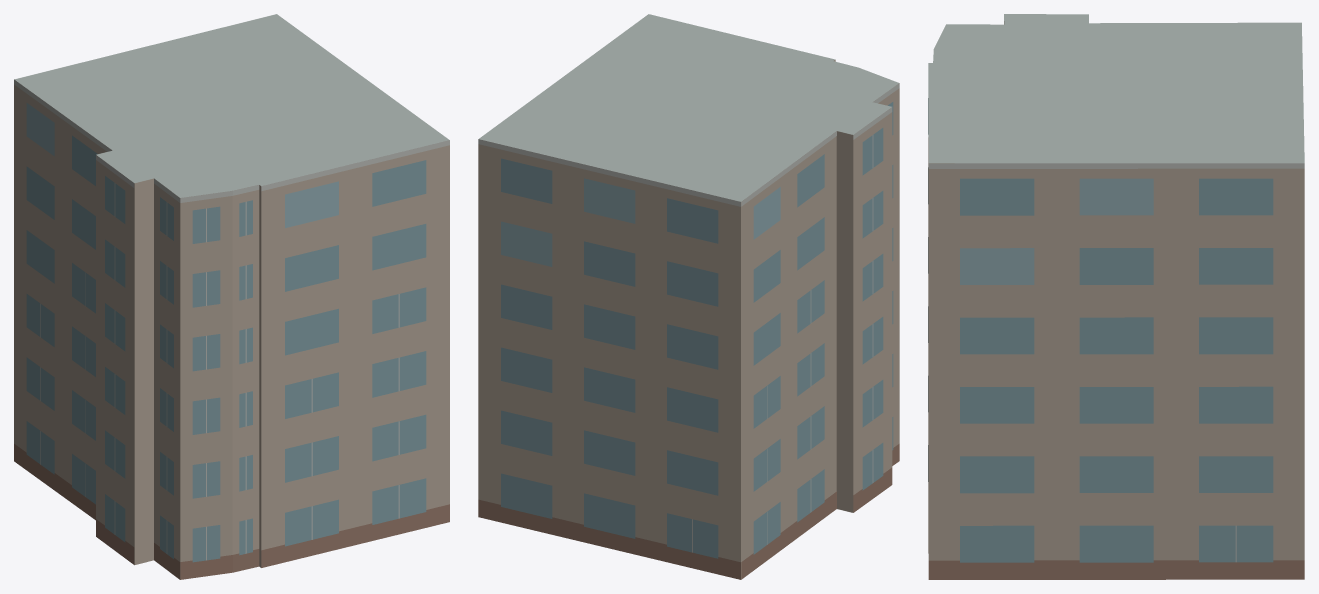
Rendered from survey-upis-32461389.glb.
3 renders of one model, left to right at view 1: azimuth 30°, elevation 25°; view 2: azimuth 150°, elevation 25°; view 3: azimuth 270°, elevation 25°, orthographic. The views are drawn at different scales.
Parts seen in each view (by area): view 1: survey-upis-32461389.tmp; view 2: survey-upis-32461389.tmp; view 3: survey-upis-32461389.tmp.
Boxes of the visible parts, bbox=[...] form: survey-upis-32461389.tmp: bbox=[14, 14, 449, 579]; survey-upis-32461389.tmp: bbox=[478, 14, 899, 579]; survey-upis-32461389.tmp: bbox=[928, 14, 1304, 579].
Bounding box in the file's own units: 14.09 × 18.3 × 15.
